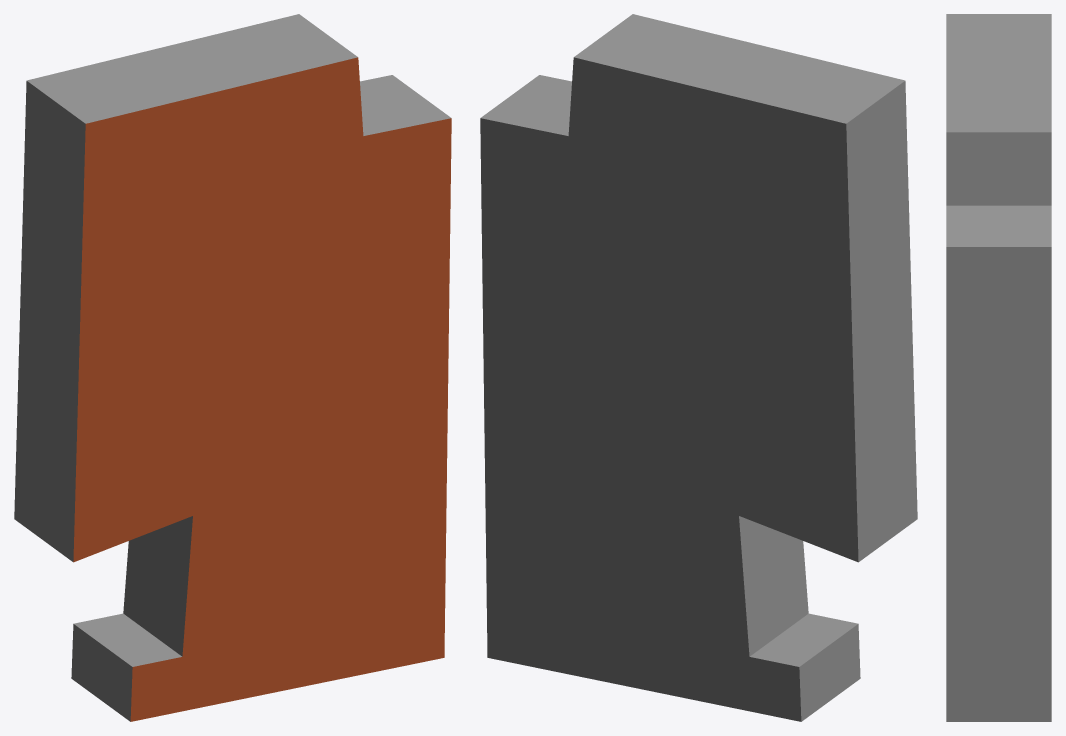
File: construction_1829_assumed_A_Igreja_matriz_h6m.obj
The picture shows the model from 3 angles, left to right: view 1: azimuth 30°, elevation 25°; view 2: azimuth 150°, elevation 25°; view 3: azimuth 270°, elevation 25°; orthographic projection. The views are drawn at different scales.
Visible parts, largest first — view 1: construction_1829_assumed_A_Igreja_matriz; view 2: construction_1829_assumed_A_Igreja_matriz; view 3: construction_1829_assumed_A_Igreja_matriz.
Boxes of the visible parts, box(x1,y1,x2,y2) form: construction_1829_assumed_A_Igreja_matriz: box(14, 14, 451, 721); construction_1829_assumed_A_Igreja_matriz: box(480, 14, 917, 721); construction_1829_assumed_A_Igreja_matriz: box(946, 14, 1051, 721).
Size of the model in its own units: 22.14 by 34.77 by 6.
